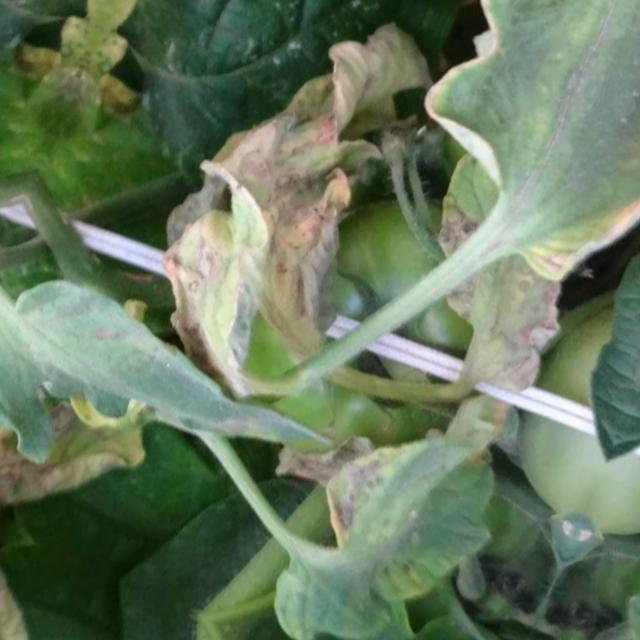Tomato leaf late blight: (304, 6, 640, 368), (0, 251, 348, 578), (236, 357, 540, 640), (448, 639, 522, 640)
